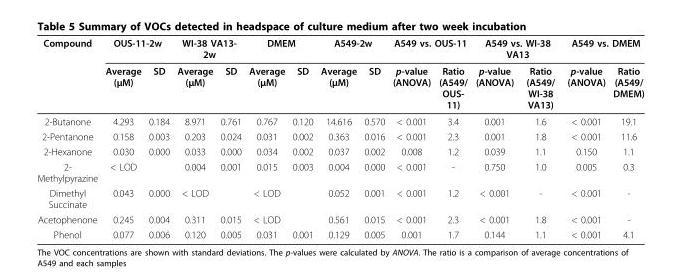table: (36, 36, 643, 239)
table column: (36, 36, 100, 239), (470, 36, 519, 239), (560, 36, 608, 239), (388, 36, 434, 239), (100, 36, 144, 239), (172, 36, 216, 239), (244, 36, 287, 239), (316, 36, 359, 239), (519, 36, 560, 239), (434, 36, 470, 239), (608, 36, 643, 239), (287, 36, 316, 239), (359, 36, 388, 239), (144, 36, 172, 239), (216, 36, 244, 239)
table column header: (36, 36, 643, 112)
table row: (36, 62, 643, 112), (36, 158, 643, 185), (36, 36, 643, 62), (36, 185, 643, 211), (36, 112, 643, 128), (36, 128, 643, 143), (36, 143, 643, 158), (36, 211, 643, 226), (36, 226, 643, 239)
table spanning cell: (36, 36, 100, 112), (470, 36, 560, 62), (560, 36, 643, 62), (388, 36, 470, 62), (100, 36, 172, 62), (172, 36, 244, 62), (244, 36, 316, 62), (316, 36, 388, 62)
